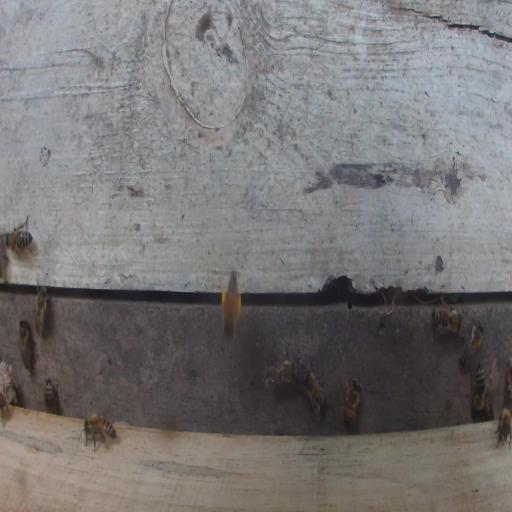bee: (220, 267, 242, 344), (79, 411, 119, 452), (264, 342, 297, 390), (300, 361, 326, 421), (5, 214, 34, 260), (459, 319, 485, 368), (466, 359, 486, 419), (343, 375, 361, 430), (33, 278, 49, 338), (18, 318, 35, 373), (432, 304, 463, 334), (494, 406, 512, 449), (43, 378, 57, 414), (1, 393, 12, 428)
